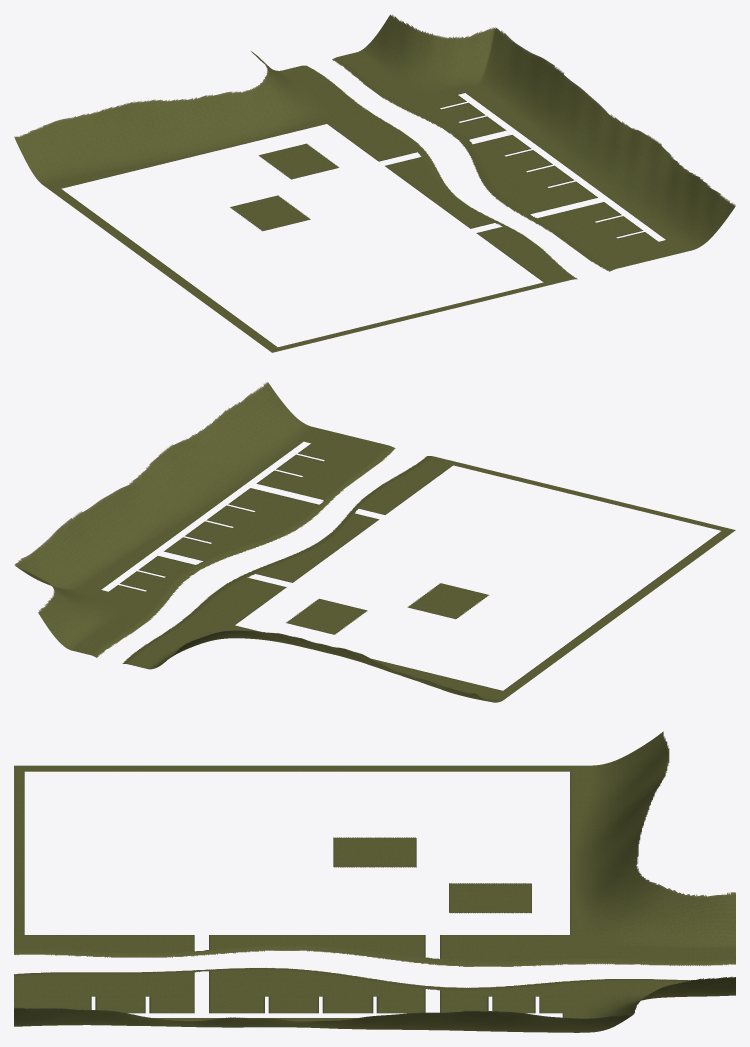
Rendered from grass_visual.dae.
3 views of the same model, one above another, from view 1: azimuth 30°, elevation 25°; view 2: azimuth 150°, elevation 25°; view 3: azimuth 270°, elevation 25° (orthographic). The views are drawn at different scales.
Visible parts, largest first — view 1: Terrain; view 2: Terrain; view 3: Terrain.
Part boxes in pixels (box(x1,y1,x2,y2)): Terrain: box(14, 14, 735, 352); Terrain: box(14, 382, 735, 702); Terrain: box(14, 731, 735, 1032).
Size of the model in its own units: 955 by 1000 by 72.75.
Materials: 1 (1 with a texture image).
